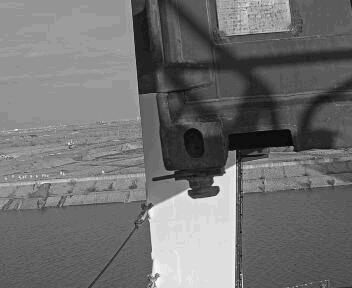twist_lock_1: (137, 166, 207, 208)
